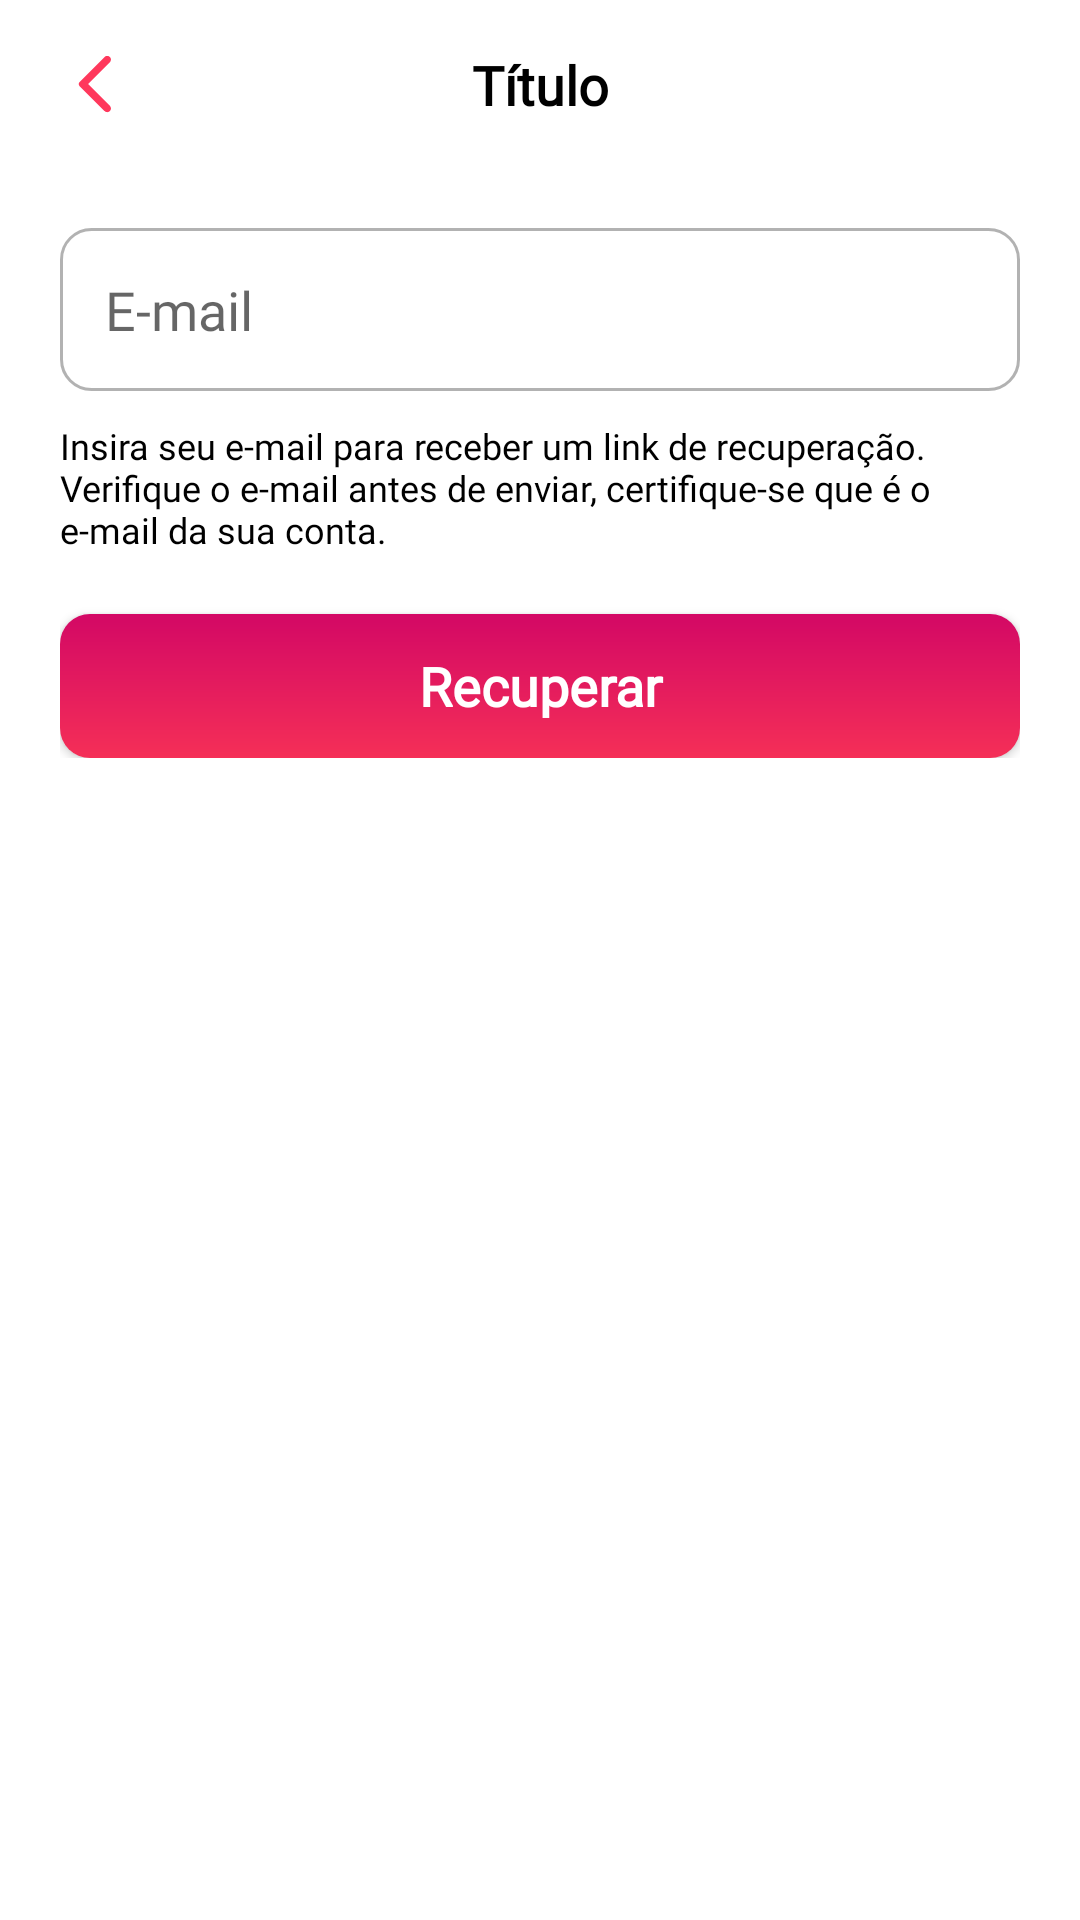

Icon bounding boxes for this 1080 x 1920 phone screenshot, format bbox(x1, y1, x2, y2):
voltar: bbox(78, 56, 111, 113)
